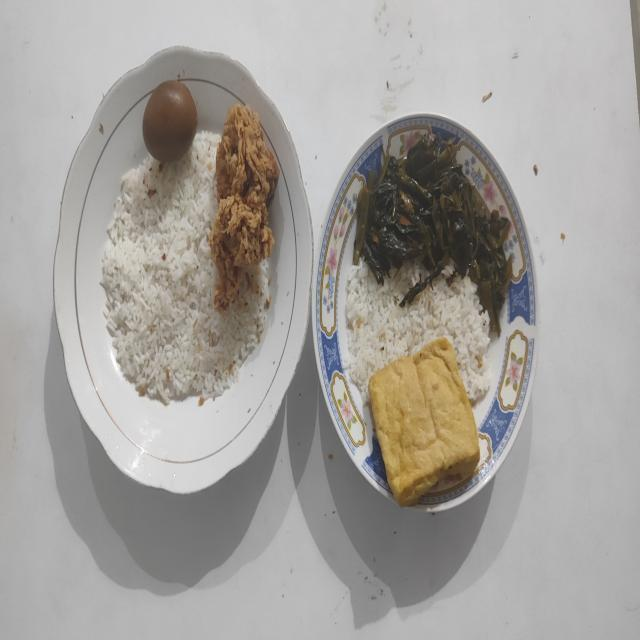nasi_putih: (100, 132, 270, 406), (342, 260, 491, 404)
tahu_goreng: (368, 338, 479, 506)
tumis_kangkung: (353, 130, 512, 336)
